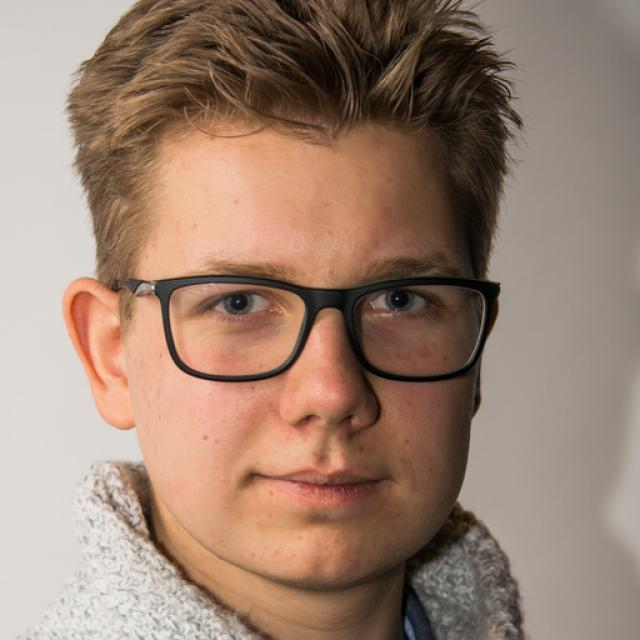Acne: (322, 256, 343, 283), (320, 223, 340, 244), (229, 196, 243, 213)
